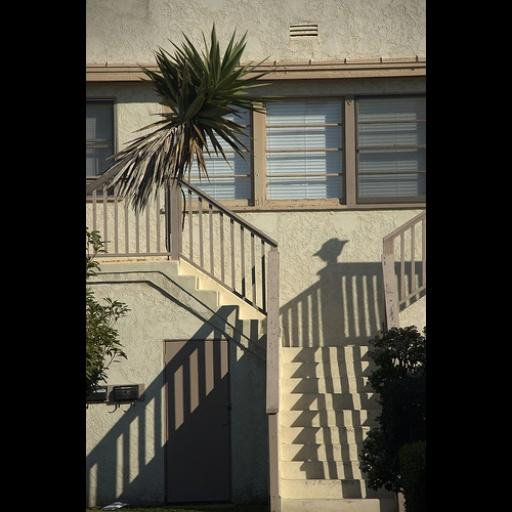stairs: (280, 345, 395, 511)
